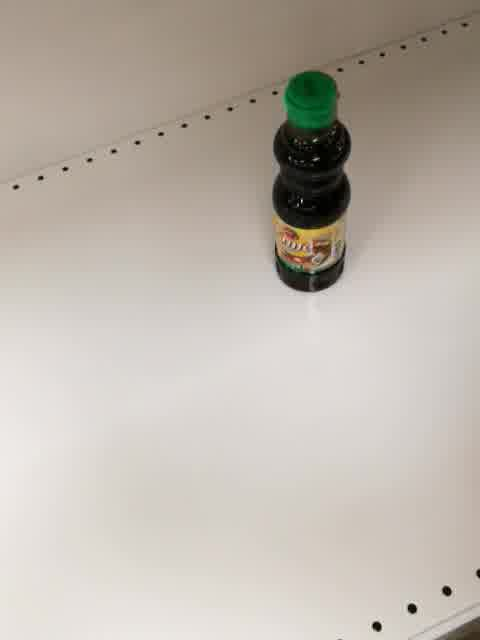cookingoil: (269, 67, 356, 296)
